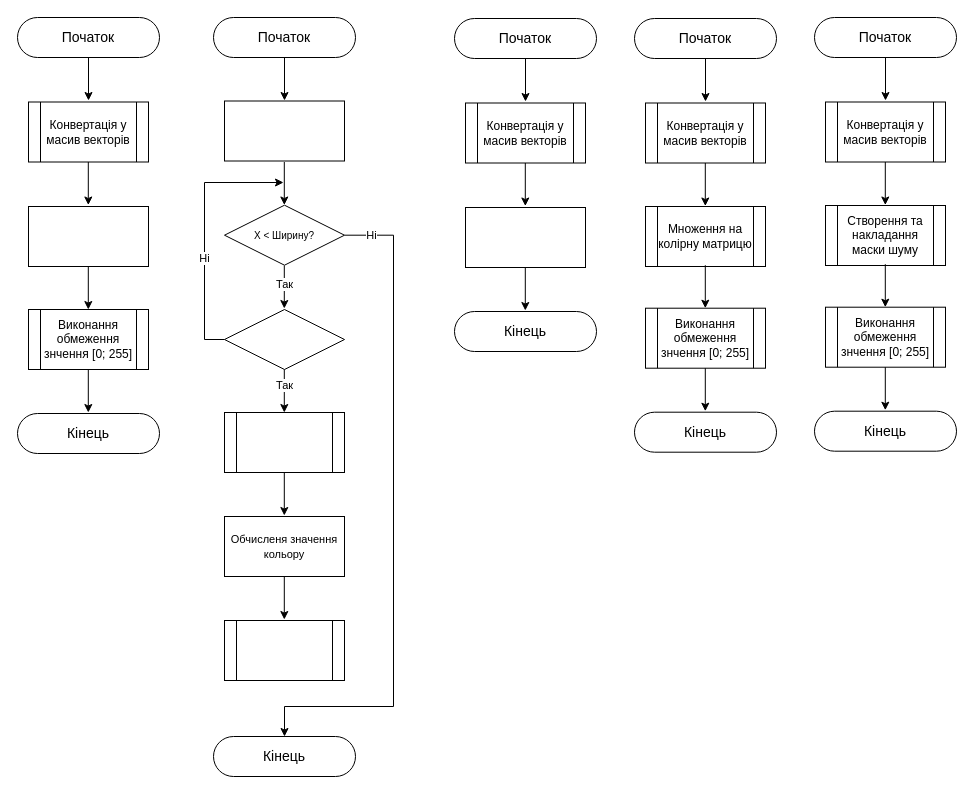
Image size: 974x794. Some labels were removed from this diagram. Each missing label, with the centre of its shape:
Y < Висоту?: the point at 284,339
Встановлення пікселеля за координатами X; Y: the point at 284,650
Множення кожного значення на фактор зміни яскравості: the point at 88,236
Обчислення нового кольору: the point at 525,237
Отримання значень ширини та висоти зображення: the point at 284,130
Отрмиання пікселеля за координатами X; Y: the point at 284,442
